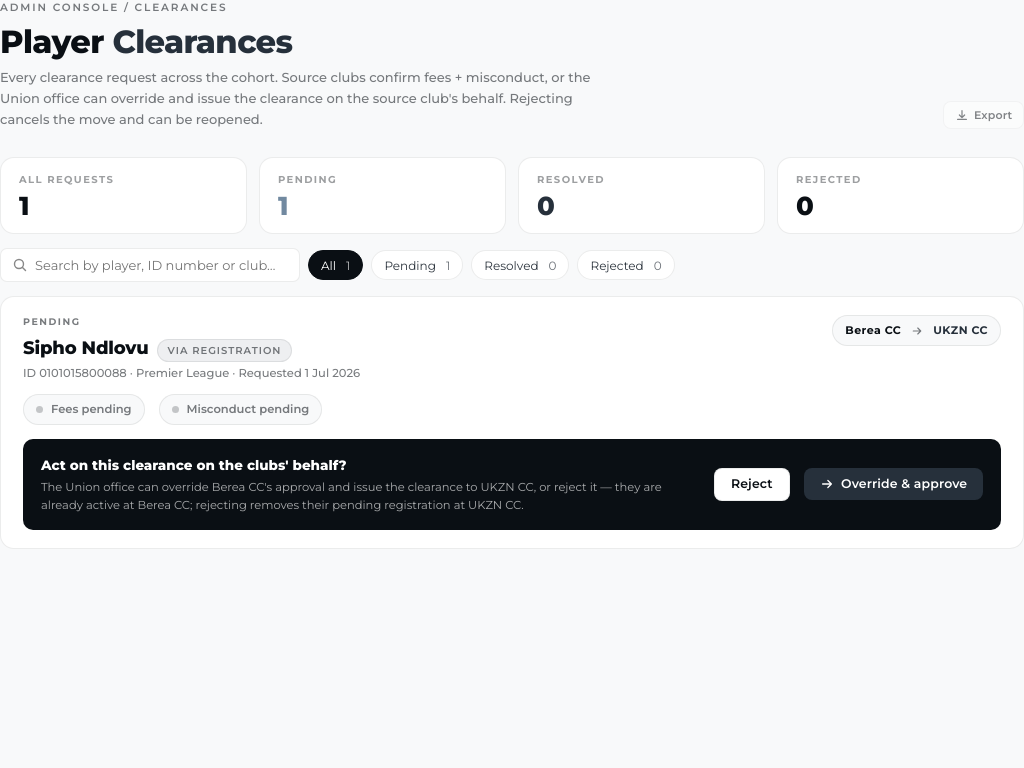
Test: the reject confirmation names the predicted case › case B-active — the player is already active at the source
Click the button "Reject" at (752, 484), box [714, 468, 790, 501]
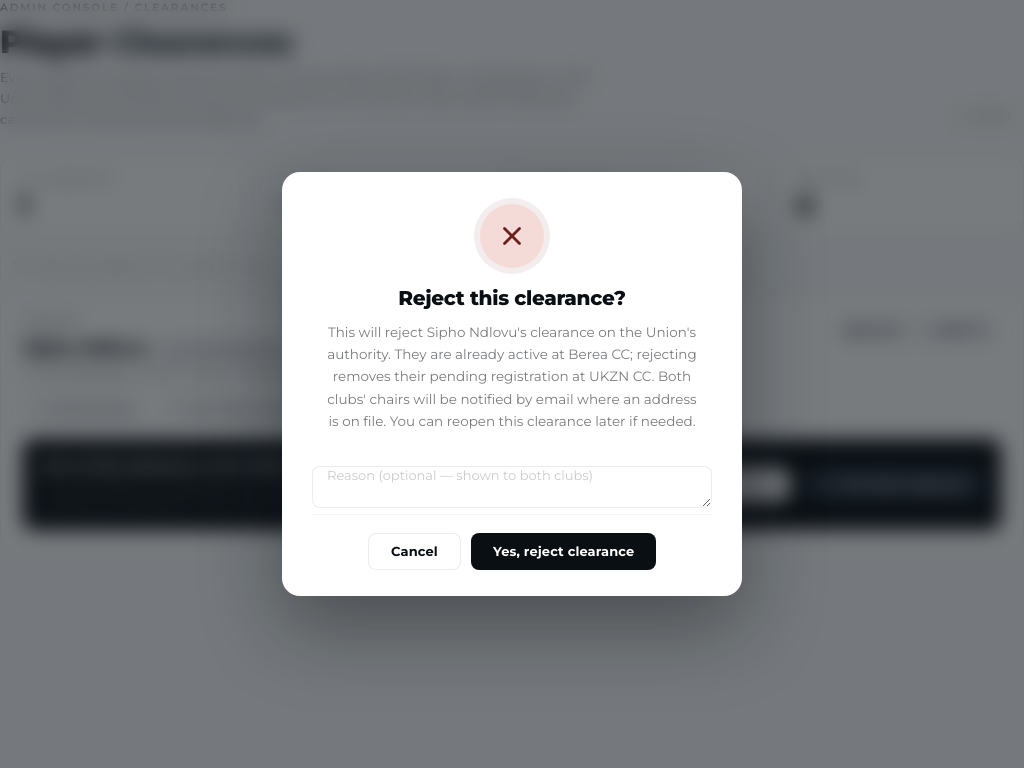
expect the text "on the Union's authority. They are already active at Berea CC; rejecting removes their pending registration at UKZN CC" is shown: met, box [327, 324, 697, 429]
